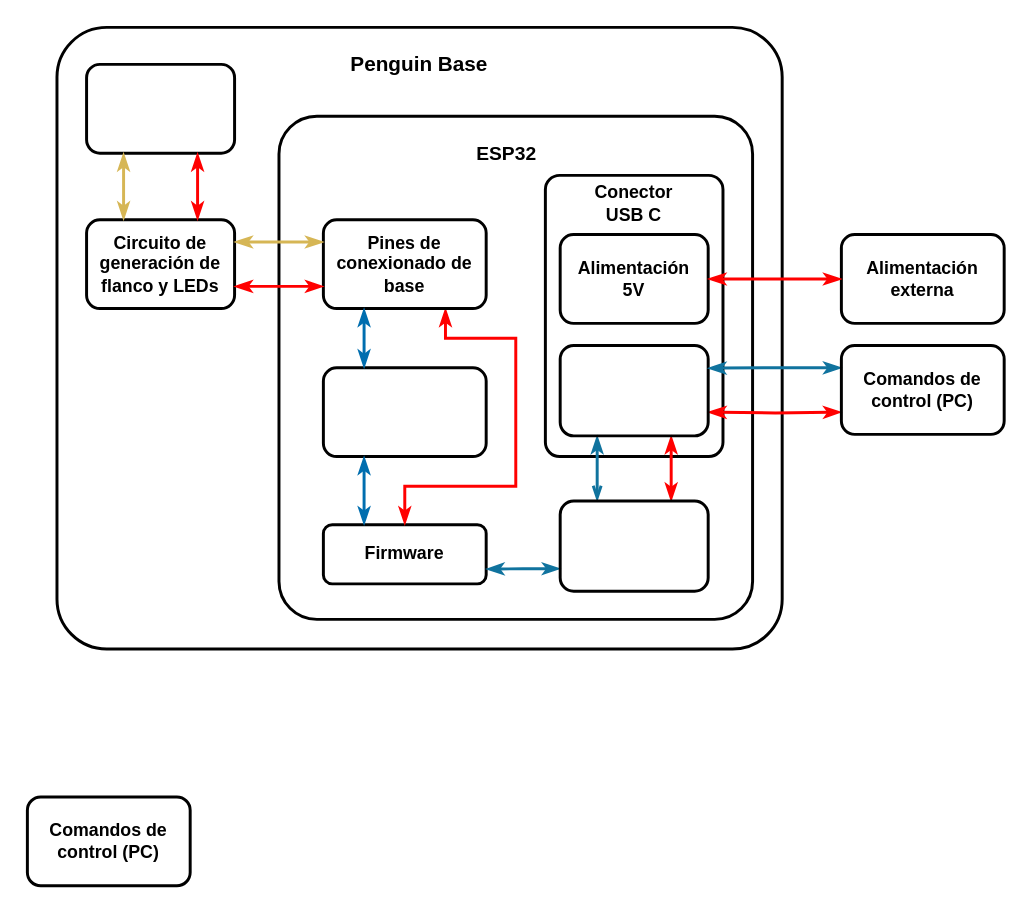
The diagram is 1030 pixels wide and 912 high, and some of its shapes have lost their labels. Here are the shapes that lost their labels. From the top down, the box of each, then its label:
(84, 62, 235, 154): Carcasa mecánica
(558, 343, 709, 437): Puerto USB
(321, 366, 487, 457): Interfaz UART ESP32 - Logger
(558, 499, 709, 592): Conversor UART - USB
